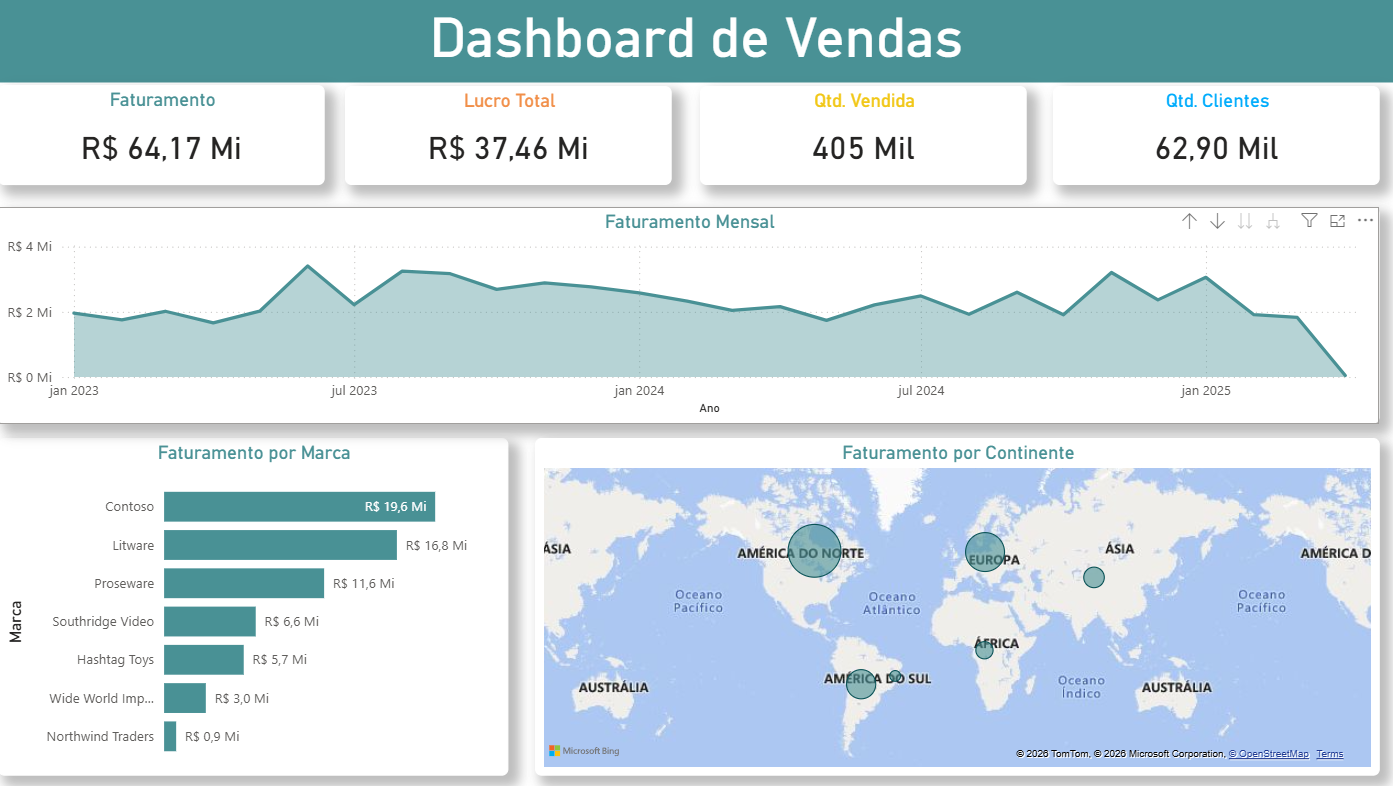

The page's visual inventory and layout, read from the dashboard file:
{"tool":"powerbi","page":{"name":"Página 1","canvas":[1280,720],"ordinal":0},"visuals":[{"type":"textbox","box":[10.1,0,1269.9,74.6],"z":0},{"type":"card","title":"Faturamento","fields":{"Values":["Sum(Vendas.Faturamento)"]},"box":[10.1,77.6,297.3,90.7],"z":1},{"type":"card","title":"Lucro Total","fields":{"Values":["Sum(Vendas.Lucro Venda)"]},"box":[325.1,77.9,297.3,90.4],"z":2},{"type":"card","title":"Qtd. Vendida","fields":{"Values":["Sum(Vendas.Qtd. Vendida)"]},"box":[648.4,77.9,297.3,90.4],"z":3},{"type":"card","title":"Qtd. Clientes","fields":{"Values":["Count(Vendas.Codigo Cliente)"]},"box":[969,77.9,297.3,90.4],"z":4},{"type":"clusteredBarChart","title":"Faturamento por Marca","fields":{"Category":["Vendas.Marca"],"Y":["Sum(Vendas.Faturamento)"]},"box":[10.1,398.1,463.6,307.4],"z":5},{"type":"areaChart","title":"Faturamento Mensal","fields":{"Category":["Vendas.Data da Venda.Variation.Hierarquia de datas.Ano","Vendas.Data da Venda.Variation.Hierarquia de datas.Mês"],"Y":["Sum(Vendas.Faturamento)"]},"box":[10.1,188.5,1255.8,196.5],"z":6},{"type":"map","title":"Faturamento por Continente","fields":{"Category":["Vendas.Continente"],"Size":["Sum(Vendas.Faturamento)"]},"box":[497.9,398.1,768,307.4],"z":7}]}

Visuals, with their boxes in screenshot pixels (x1, y1, x2, y2), scaled from the page's 1280x720 canvas onto the 1393x786 screenshot:
textbox: bbox=(11, 0, 1392, 81)
"Faturamento" card: bbox=(11, 85, 335, 184)
"Lucro Total" card: bbox=(354, 85, 677, 184)
"Qtd. Vendida" card: bbox=(706, 85, 1029, 184)
"Qtd. Clientes" card: bbox=(1055, 85, 1378, 184)
"Faturamento por Marca" clusteredBarChart: bbox=(11, 435, 516, 770)
"Faturamento Mensal" areaChart: bbox=(11, 206, 1378, 420)
"Faturamento por Continente" map: bbox=(542, 435, 1378, 770)
